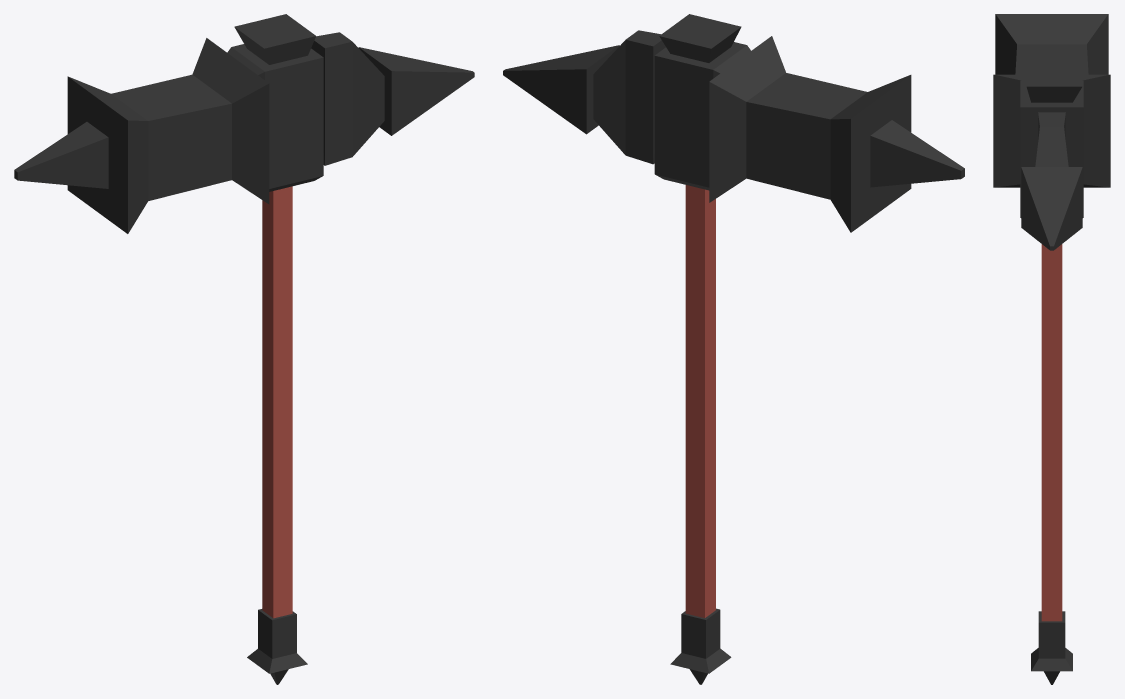
The model's file is turuhashi.fbx.
3 views of the same model, side by side, from view 1: azimuth 30°, elevation 25°; view 2: azimuth 150°, elevation 25°; view 3: azimuth 270°, elevation 25° (orthographic). The views are drawn at different scales.
Parts seen in each view (by area): view 1: Cube; view 2: Cube; view 3: Cube.
Boxes of the visible parts, x1=… form: Cube: x1=14, y1=14, x2=474, y2=684; Cube: x1=503, y1=14, x2=964, y2=684; Cube: x1=993, y1=14, x2=1110, y2=684.
Size of the model in its own units: 3.19 by 4.35 by 0.7568.
